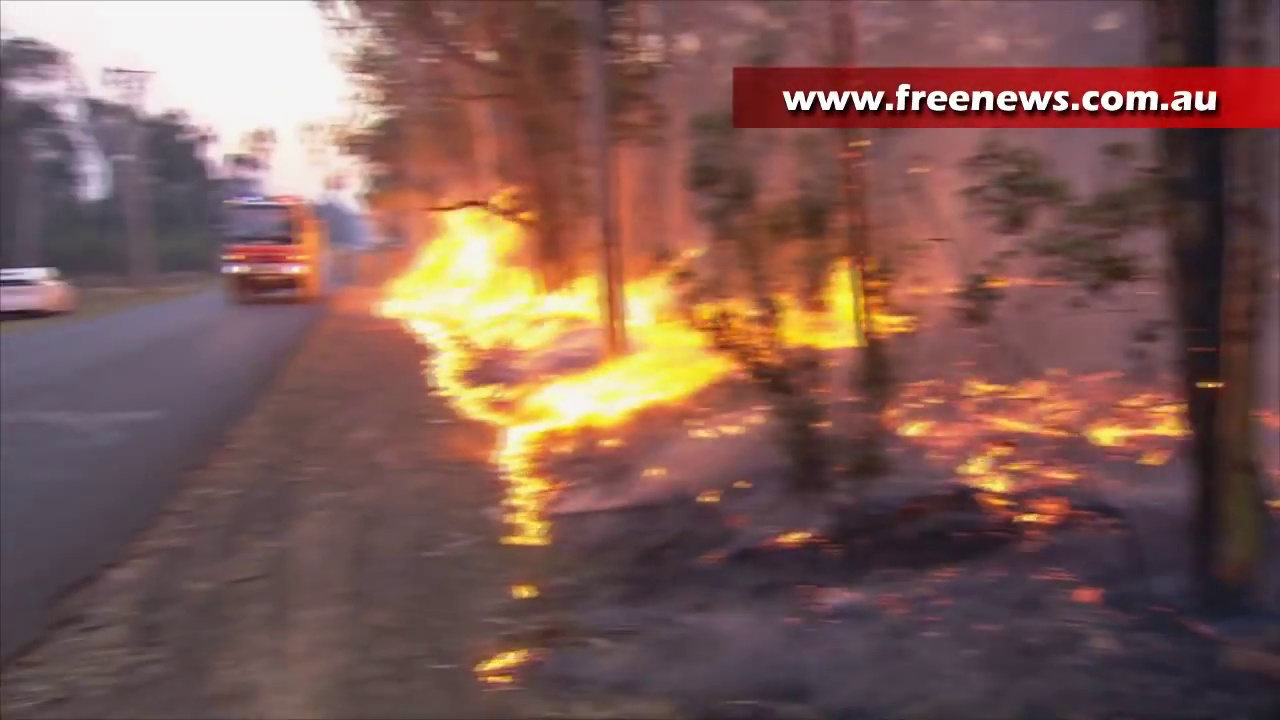fire: (372, 198, 736, 420), (900, 365, 1189, 518), (776, 259, 916, 351), (491, 418, 564, 538)
